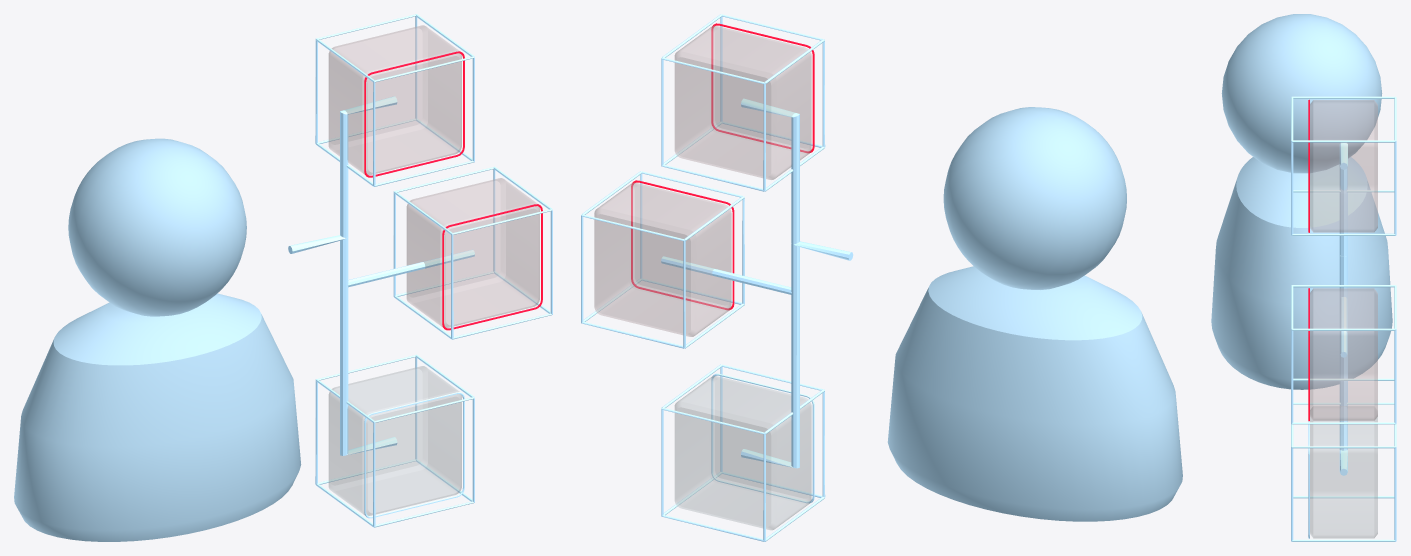
File: 38-user-role.glb
The picture shows the model from 3 angles, left to right: view 1: azimuth 30°, elevation 25°; view 2: azimuth 150°, elevation 25°; view 3: azimuth 270°, elevation 25°; orthographic projection. The views are drawn at different scales.
Parts seen in each view (by area): view 1: BC etched pale glass, BC subtle ruby technical glass, BC thin clear technical glass, BC cool glass edge, BC ruby signal edge; view 2: BC etched pale glass, BC subtle ruby technical glass, BC thin clear technical glass, BC cool glass edge, BC ruby signal edge; view 3: BC etched pale glass, BC subtle ruby technical glass, BC cool glass edge, BC thin clear technical glass, BC ruby signal edge.
Boxes of the visible parts, <box> form: BC etched pale glass: <box>14,138,301,541</box>; BC subtle ruby technical glass: <box>328,25,539,327</box>; BC thin clear technical glass: <box>328,366,461,515</box>; BC cool glass edge: <box>288,14,552,527</box>; BC ruby signal edge: <box>364,51,542,330</box>; BC etched pale glass: <box>887,107,1182,521</box>; BC subtle ruby technical glass: <box>594,25,811,336</box>; BC thin clear technical glass: <box>674,376,811,530</box>; BC cool glass edge: <box>581,14,853,541</box>; BC ruby signal edge: <box>631,23,814,310</box>; BC etched pale glass: <box>1211,14,1392,389</box>; BC subtle ruby technical glass: <box>1310,100,1377,420</box>; BC cool glass edge: <box>1291,96,1396,541</box>; BC thin clear technical glass: <box>1310,406,1377,538</box>; BC ruby signal edge: <box>1308,99,1309,421</box>.
Size of the model in its own units: 1.95 by 1.59 by 0.6643.
